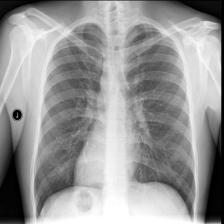normal: (29, 17, 198, 219)
